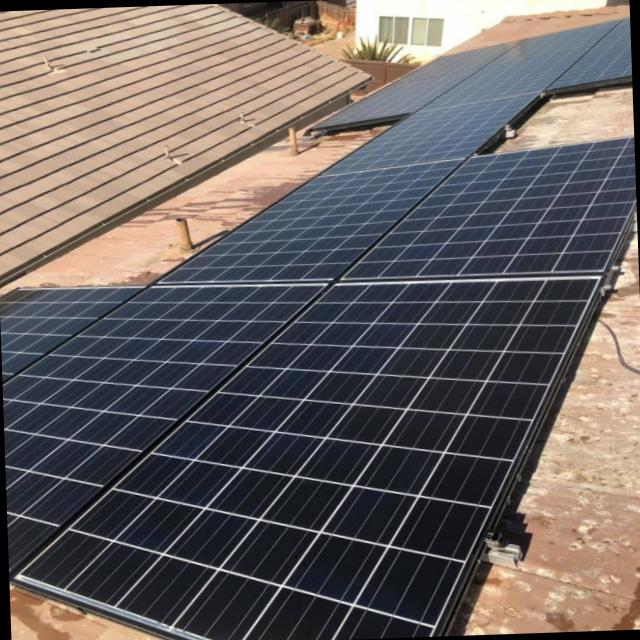no faulty: (2, 21, 637, 640)
